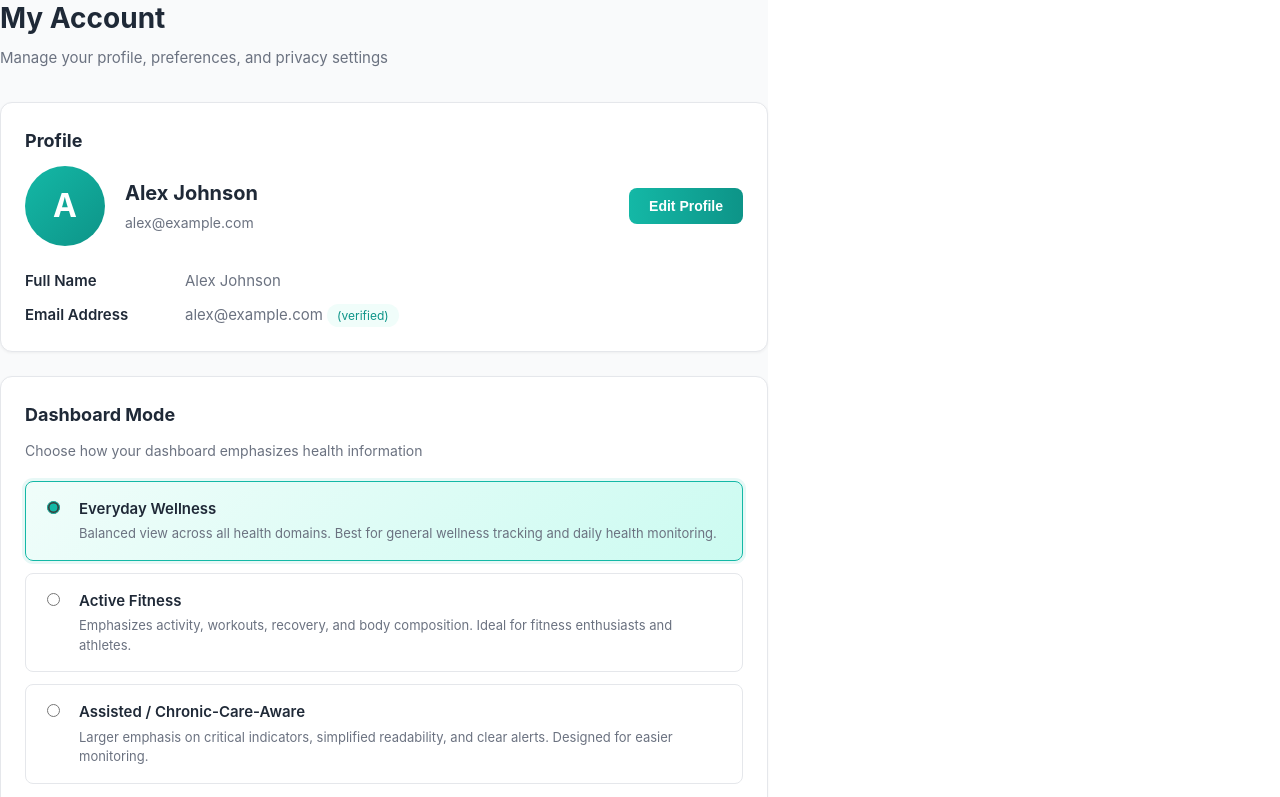
Test: MyAccountPage — dashboard mode selector › shows an error when saving mode fails
This screenshot has width=1280, height=797.
Click the radio button labelled "Active Fitness": (54, 599) 47,593 -> 60,606
(page scrolled)
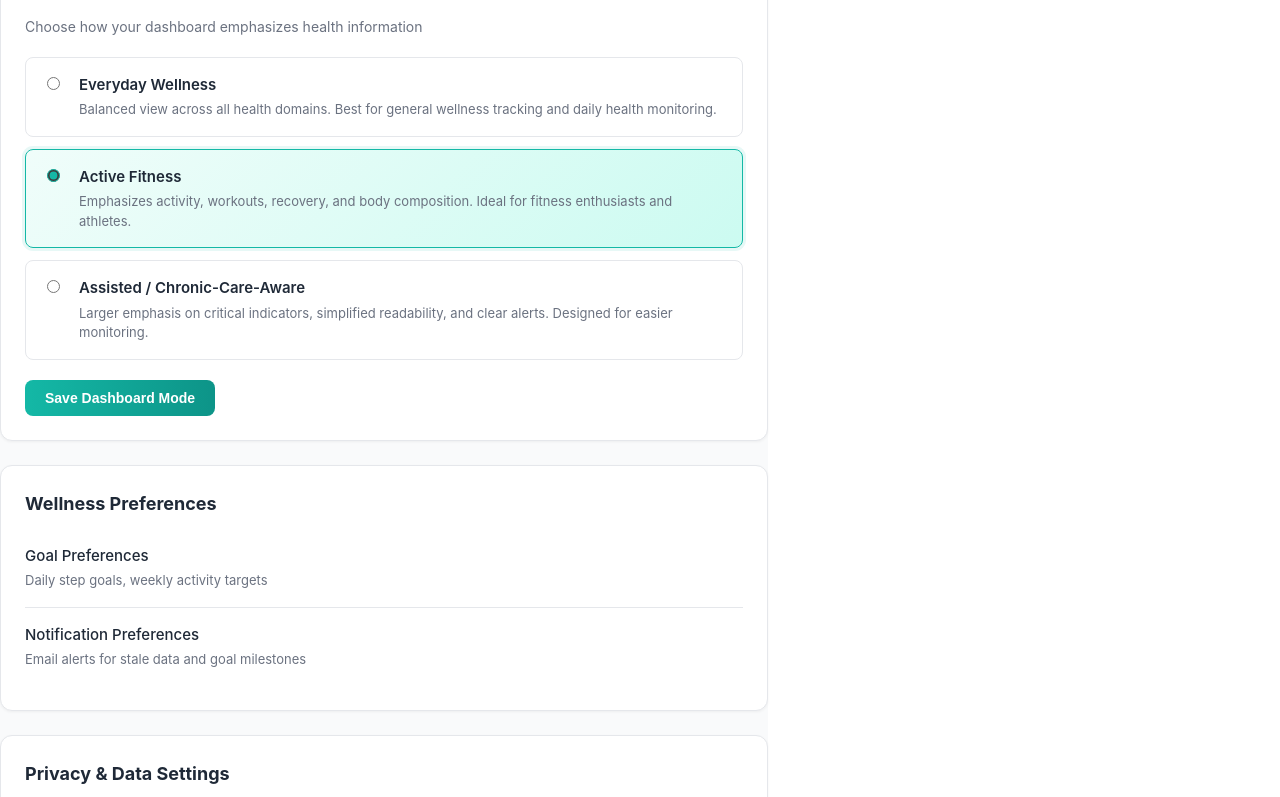
Click the button "Save Dashboard Mode": (120, 398) 25,380 -> 215,416
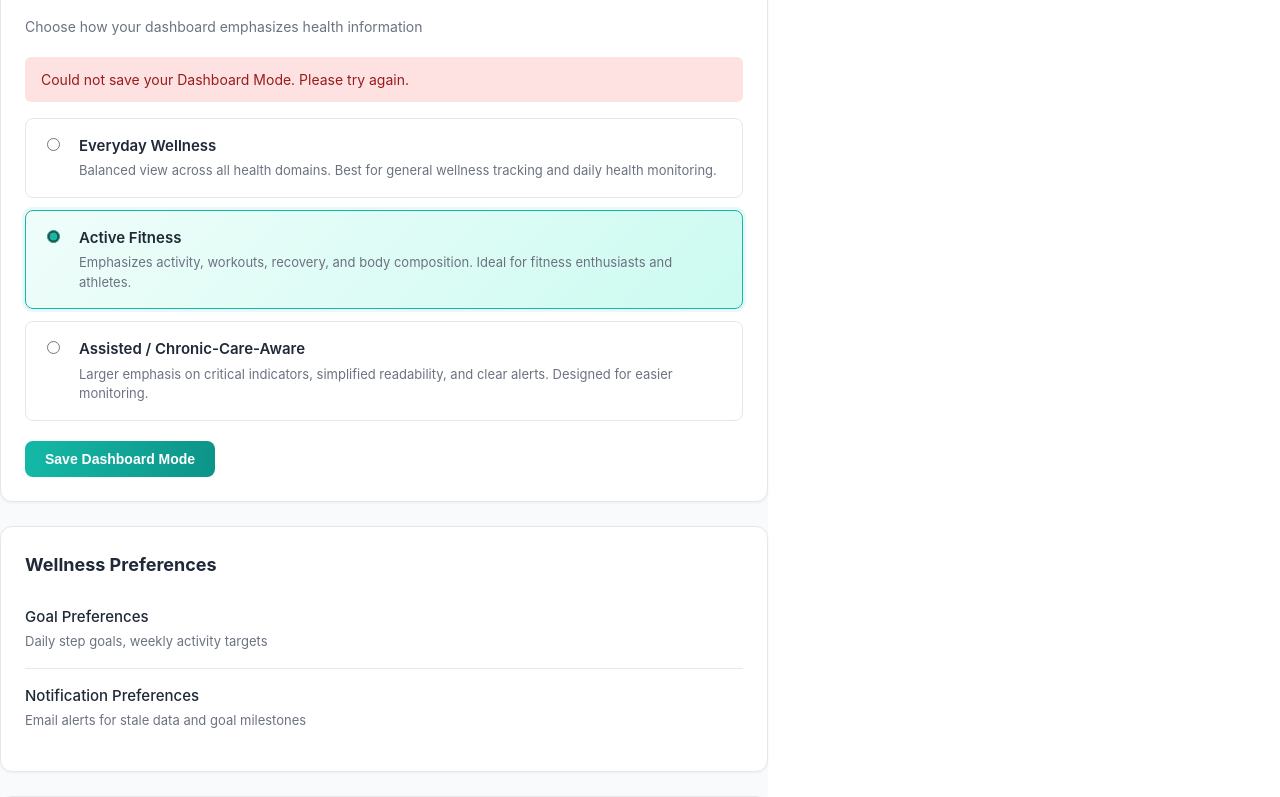
Expected: the text "Could not save your Dashboard Mode. Please try again." is shown, 25,56 -> 743,102
